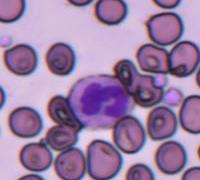N: (66, 74, 134, 129)
